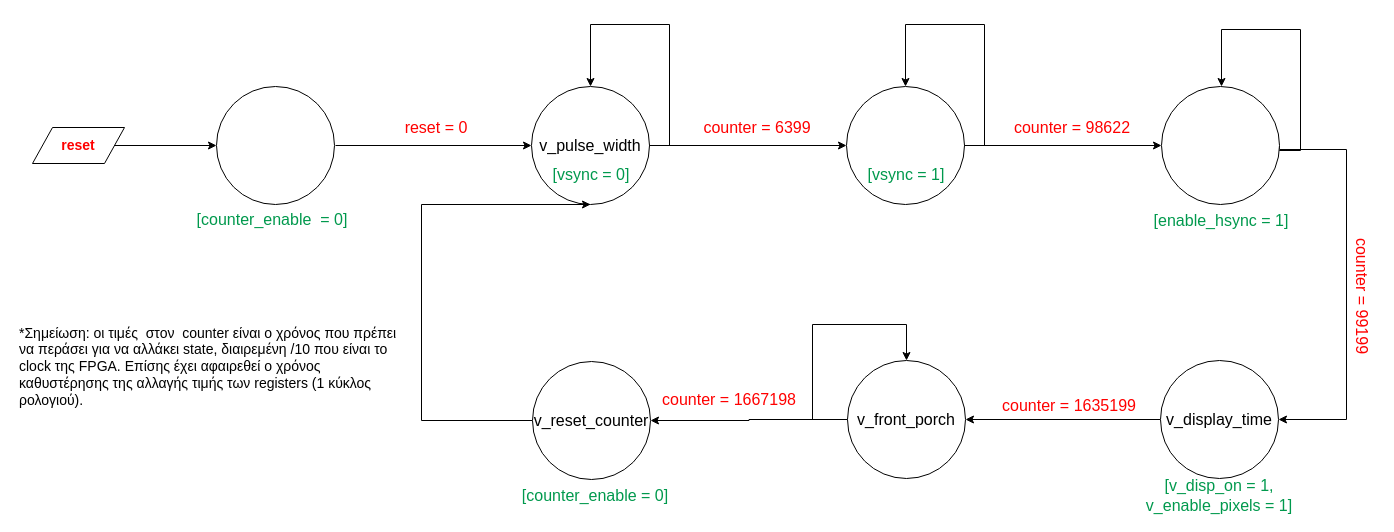
Image size: 1394x532. Some labels were removed from this diagram. Here are the shapes that lost their labels. From the top down, the box of each, then its label:
(216, 86, 334, 204): v_off
(846, 86, 964, 204): v_back_porch
(1160, 86, 1280, 204): signal_for_ hsync
